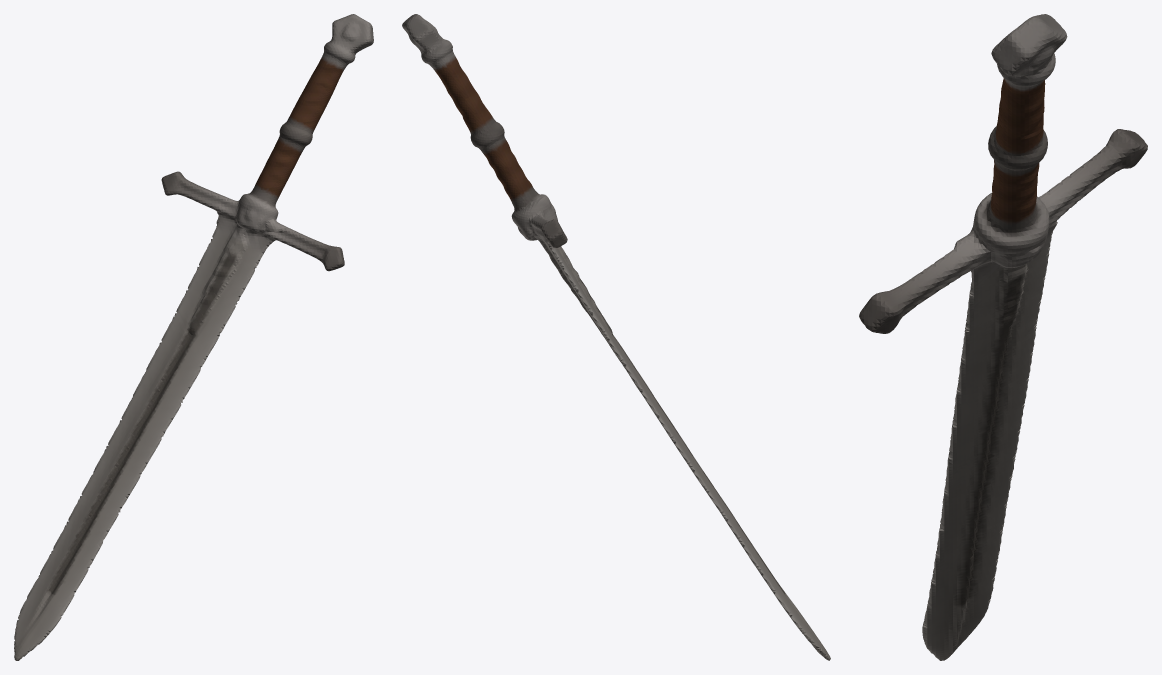
Rendered from espada.glb.
The picture shows the model from 3 angles, left to right: view 1: azimuth 30°, elevation 25°; view 2: azimuth 150°, elevation 25°; view 3: azimuth 270°, elevation 25°; orthographic projection. The views are drawn at different scales.
Visible parts, largest first — view 1: tmprlh072mt.ply; view 2: tmprlh072mt.ply; view 3: tmprlh072mt.ply.
Part boxes in pixels (box(x1,y1,x2,y2)): tmprlh072mt.ply: box(14, 14, 373, 660); tmprlh072mt.ply: box(402, 14, 830, 660); tmprlh072mt.ply: box(859, 14, 1147, 660).
Bounding box in the file's own units: 1.45 × 1.96 × 0.5365.
